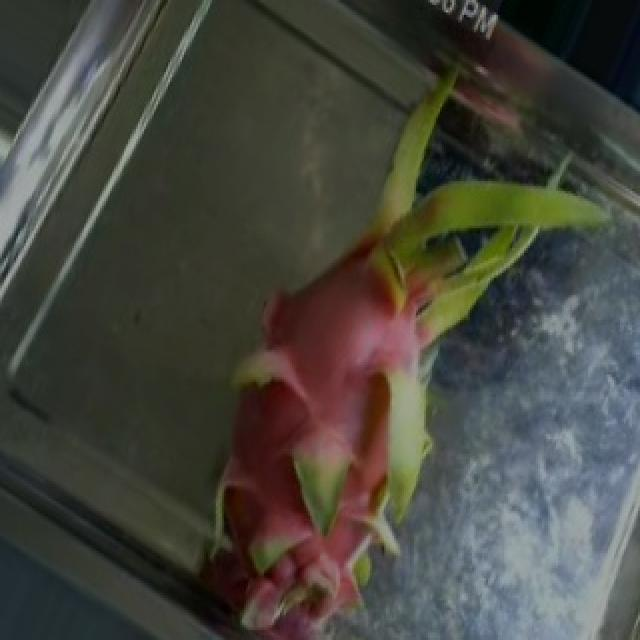fruit: (208, 5, 636, 394), (88, 238, 392, 640)
